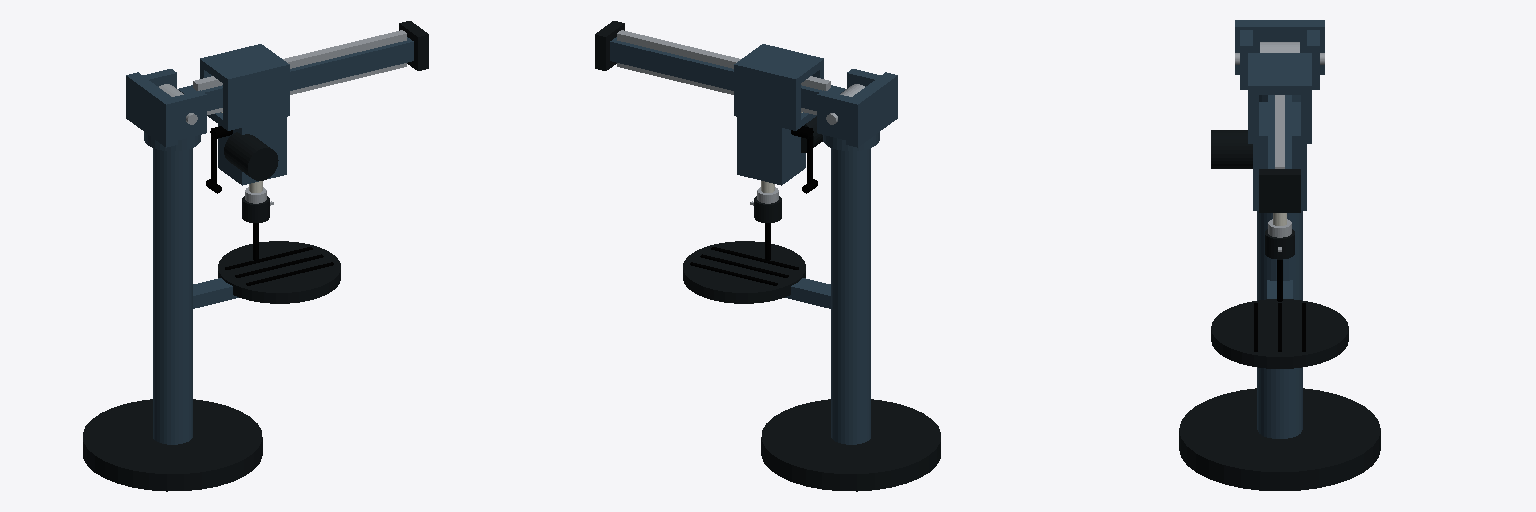
The robot description file, URDF, robot "radial_arm_drill_press":
<robot name="radial_arm_drill_press">
  <material name="dark_cast_iron">
    <color rgba="0.1 0.12 0.13 1" />
    </material>
  <material name="blue_gray_casting">
    <color rgba="0.22 0.3 0.36 1" />
    </material>
  <material name="bare_steel">
    <color rgba="0.62 0.64 0.66 1" />
    </material>
  <material name="polished_spindle">
    <color rgba="0.78 0.78 0.74 1" />
    </material>
  <material name="blackened_steel">
    <color rgba="0.02 0.02 0.02 1" />
    </material>
  <link name="base_column">
    <visual name="round_base">
      <origin xyz="0 0 0.04" rpy="0 0 0" />
      <geometry>
        <cylinder radius="0.38" length="0.08" />
        </geometry>
      <material name="dark_cast_iron">
        <color rgba="0.1 0.12 0.13 1" />
        </material>
      </visual>
    <visual name="round_column">
      <origin xyz="0 0 0.79" rpy="0 0 0" />
      <geometry>
        <cylinder radius="0.085" length="1.42" />
        </geometry>
      <material name="blue_gray_casting">
        <color rgba="0.22 0.3 0.36 1" />
        </material>
      </visual>
    <visual name="top_collar">
      <origin xyz="0 0 1.5" rpy="0 0 0" />
      <geometry>
        <cylinder radius="0.12" length="0.08" />
        </geometry>
      <material name="blue_gray_casting">
        <color rgba="0.22 0.3 0.36 1" />
        </material>
      </visual>
    <visual name="table_support">
      <origin xyz="0.28 0 0.705" rpy="0 0 0" />
      <geometry>
        <box size="0.55 0.1 0.06" />
        </geometry>
      <material name="blue_gray_casting">
        <color rgba="0.22 0.3 0.36 1" />
        </material>
      </visual>
    <visual name="round_table">
      <origin xyz="0.52 0 0.72" rpy="0 0 0" />
      <geometry>
        <cylinder radius="0.26" length="0.05" />
        </geometry>
      <material name="dark_cast_iron">
        <color rgba="0.1 0.12 0.13 1" />
        </material>
      </visual>
    <visual name="table_slot_0">
      <origin xyz="0.52 -0.09 0.748" rpy="0 0 0" />
      <geometry>
        <box size="0.42 0.018 0.008" />
        </geometry>
      <material name="blackened_steel">
        <color rgba="0.02 0.02 0.02 1" />
        </material>
      </visual>
    <visual name="table_slot_1">
      <origin xyz="0.52 0 0.748" rpy="0 0 0" />
      <geometry>
        <box size="0.42 0.018 0.008" />
        </geometry>
      <material name="blackened_steel">
        <color rgba="0.02 0.02 0.02 1" />
        </material>
      </visual>
    <visual name="table_slot_2">
      <origin xyz="0.52 0.09 0.748" rpy="0 0 0" />
      <geometry>
        <box size="0.42 0.018 0.008" />
        </geometry>
      <material name="blackened_steel">
        <color rgba="0.02 0.02 0.02 1" />
        </material>
      </visual>
    <visual name="yoke_back">
      <origin xyz="-0.1 0 1.62" rpy="0 0 0" />
      <geometry>
        <box size="0.06 0.34 0.2" />
        </geometry>
      <material name="blue_gray_casting">
        <color rgba="0.22 0.3 0.36 1" />
        </material>
      </visual>
    <visual name="yoke_lug_0">
      <origin xyz="0 -0.125 1.62" rpy="0 0 0" />
      <geometry>
        <box size="0.16 0.05 0.18" />
        </geometry>
      <material name="blue_gray_casting">
        <color rgba="0.22 0.3 0.36 1" />
        </material>
      </visual>
    <visual name="yoke_lug_1">
      <origin xyz="0 0.125 1.62" rpy="0 0 0" />
      <geometry>
        <box size="0.16 0.05 0.18" />
        </geometry>
      <material name="blue_gray_casting">
        <color rgba="0.22 0.3 0.36 1" />
        </material>
      </visual>
    <visual name="pivot_pin">
      <origin xyz="0 0 1.62" rpy="1.5708 0 0" />
      <geometry>
        <cylinder radius="0.024" length="0.34" />
        </geometry>
      <material name="bare_steel">
        <color rgba="0.62 0.64 0.66 1" />
        </material>
      </visual>
    <collision name="round_base">
      <origin xyz="0 0 0.04" rpy="0 0 0" />
      <geometry>
        <cylinder radius="0.38" length="0.08" />
        </geometry>
      </collision>
    <collision name="round_column">
      <origin xyz="0 0 0.79" rpy="0 0 0" />
      <geometry>
        <cylinder radius="0.085" length="1.42" />
        </geometry>
      </collision>
    <collision name="top_collar">
      <origin xyz="0 0 1.5" rpy="0 0 0" />
      <geometry>
        <cylinder radius="0.12" length="0.08" />
        </geometry>
      </collision>
    <collision name="table_support">
      <origin xyz="0.28 0 0.705" rpy="0 0 0" />
      <geometry>
        <box size="0.55 0.1 0.06" />
        </geometry>
      </collision>
    <collision name="round_table">
      <origin xyz="0.52 0 0.72" rpy="0 0 0" />
      <geometry>
        <cylinder radius="0.26" length="0.05" />
        </geometry>
      </collision>
    <collision name="table_slot_0">
      <origin xyz="0.52 -0.09 0.748" rpy="0 0 0" />
      <geometry>
        <box size="0.42 0.018 0.008" />
        </geometry>
      </collision>
    <collision name="table_slot_1">
      <origin xyz="0.52 0 0.748" rpy="0 0 0" />
      <geometry>
        <box size="0.42 0.018 0.008" />
        </geometry>
      </collision>
    <collision name="table_slot_2">
      <origin xyz="0.52 0.09 0.748" rpy="0 0 0" />
      <geometry>
        <box size="0.42 0.018 0.008" />
        </geometry>
      </collision>
    <collision name="yoke_back">
      <origin xyz="-0.1 0 1.62" rpy="0 0 0" />
      <geometry>
        <box size="0.06 0.34 0.2" />
        </geometry>
      </collision>
    <collision name="yoke_lug_0">
      <origin xyz="0 -0.125 1.62" rpy="0 0 0" />
      <geometry>
        <box size="0.16 0.05 0.18" />
        </geometry>
      </collision>
    <collision name="yoke_lug_1">
      <origin xyz="0 0.125 1.62" rpy="0 0 0" />
      <geometry>
        <box size="0.16 0.05 0.18" />
        </geometry>
      </collision>
    <collision name="pivot_pin">
      <origin xyz="0 0 1.62" rpy="1.5708 0 0" />
      <geometry>
        <cylinder radius="0.024" length="0.34" />
        </geometry>
      </collision>
    </link>
  <link name="arm">
    <visual name="pivot_hub">
      <origin xyz="0 0 0" rpy="1.5708 0 0" />
      <geometry>
        <cylinder radius="0.065" length="0.15" />
        </geometry>
      <material name="bare_steel">
        <color rgba="0.62 0.64 0.66 1" />
        </material>
      </visual>
    <visual name="main_beam">
      <origin xyz="0.6 0 0" rpy="0 0 0" />
      <geometry>
        <box size="1.1 0.09 0.09" />
        </geometry>
      <material name="blue_gray_casting">
        <color rgba="0.22 0.3 0.36 1" />
        </material>
      </visual>
    <visual name="top_slide_rail">
      <origin xyz="0.62 0 0.06" rpy="0 0 0" />
      <geometry>
        <box size="1.02 0.04 0.035" />
        </geometry>
      <material name="bare_steel">
        <color rgba="0.62 0.64 0.66 1" />
        </material>
      </visual>
    <visual name="lower_slide_rail">
      <origin xyz="0.62 0 -0.06" rpy="0 0 0" />
      <geometry>
        <box size="1.02 0.04 0.035" />
        </geometry>
      <material name="bare_steel">
        <color rgba="0.62 0.64 0.66 1" />
        </material>
      </visual>
    <visual name="end_stop">
      <origin xyz="1.175 0 0" rpy="0 0 0" />
      <geometry>
        <box size="0.055 0.16 0.16" />
        </geometry>
      <material name="dark_cast_iron">
        <color rgba="0.1 0.12 0.13 1" />
        </material>
      </visual>
    <collision name="pivot_hub">
      <origin xyz="0 0 0" rpy="1.5708 0 0" />
      <geometry>
        <cylinder radius="0.065" length="0.15" />
        </geometry>
      </collision>
    <collision name="main_beam">
      <origin xyz="0.6 0 0" rpy="0 0 0" />
      <geometry>
        <box size="1.1 0.09 0.09" />
        </geometry>
      </collision>
    <collision name="top_slide_rail">
      <origin xyz="0.62 0 0.06" rpy="0 0 0" />
      <geometry>
        <box size="1.02 0.04 0.035" />
        </geometry>
      </collision>
    <collision name="lower_slide_rail">
      <origin xyz="0.62 0 -0.06" rpy="0 0 0" />
      <geometry>
        <box size="1.02 0.04 0.035" />
        </geometry>
      </collision>
    <collision name="end_stop">
      <origin xyz="1.175 0 0" rpy="0 0 0" />
      <geometry>
        <box size="0.055 0.16 0.16" />
        </geometry>
      </collision>
    </link>
  <link name="head">
    <visual name="slide_sleeve">
      <geometry>
        <mesh filename="assets/meshes/sliding_head_casting.obj" />
        </geometry>
      <material name="blue_gray_casting">
        <color rgba="0.22 0.3 0.36 1" />
        </material>
      </visual>
    <visual name="upper_wear_pad">
      <origin xyz="0 0 0.0825" rpy="0 0 0" />
      <geometry>
        <box size="0.24 0.035 0.01" />
        </geometry>
      <material name="polished_spindle">
        <color rgba="0.78 0.78 0.74 1" />
        </material>
      </visual>
    <visual name="lower_wear_pad">
      <origin xyz="0 0 -0.0825" rpy="0 0 0" />
      <geometry>
        <box size="0.24 0.035 0.01" />
        </geometry>
      <material name="polished_spindle">
        <color rgba="0.78 0.78 0.74 1" />
        </material>
      </visual>
    <visual name="side_motor">
      <origin xyz="-0.06 -0.16 -0.24" rpy="1.5708 0 0" />
      <geometry>
        <cylinder radius="0.075" length="0.2" />
        </geometry>
      <material name="dark_cast_iron">
        <color rgba="0.1 0.12 0.13 1" />
        </material>
      </visual>
    <collision name="slide_sleeve">
      <geometry>
        <mesh filename="assets/meshes/sliding_head_casting.obj" />
        </geometry>
      </collision>
    <collision name="upper_wear_pad">
      <origin xyz="0 0 0.0825" rpy="0 0 0" />
      <geometry>
        <box size="0.24 0.035 0.01" />
        </geometry>
      </collision>
    <collision name="lower_wear_pad">
      <origin xyz="0 0 -0.0825" rpy="0 0 0" />
      <geometry>
        <box size="0.24 0.035 0.01" />
        </geometry>
      </collision>
    <collision name="side_motor">
      <origin xyz="-0.06 -0.16 -0.24" rpy="1.5708 0 0" />
      <geometry>
        <cylinder radius="0.075" length="0.2" />
        </geometry>
      </collision>
    </link>
  <link name="feed_lever">
    <visual name="feed_hub">
      <origin xyz="-0.04 0 0" rpy="0 1.5708 0" />
      <geometry>
        <cylinder radius="0.024" length="0.085" />
        </geometry>
      <material name="blackened_steel">
        <color rgba="0.02 0.02 0.02 1" />
        </material>
      </visual>
    <visual name="feed_spoke">
      <origin xyz="-0.08 0 -0.12" rpy="0 0 0" />
      <geometry>
        <cylinder radius="0.012" length="0.22" />
        </geometry>
      <material name="blackened_steel">
        <color rgba="0.02 0.02 0.02 1" />
        </material>
      </visual>
    <visual name="feed_grip">
      <origin xyz="-0.08 0 -0.245" rpy="1.5708 0 0" />
      <geometry>
        <cylinder radius="0.018" length="0.075" />
        </geometry>
      <material name="blackened_steel">
        <color rgba="0.02 0.02 0.02 1" />
        </material>
      </visual>
    <collision name="feed_hub">
      <origin xyz="-0.04 0 0" rpy="0 1.5708 0" />
      <geometry>
        <cylinder radius="0.024" length="0.085" />
        </geometry>
      </collision>
    <collision name="feed_spoke">
      <origin xyz="-0.08 0 -0.12" rpy="0 0 0" />
      <geometry>
        <cylinder radius="0.012" length="0.22" />
        </geometry>
      </collision>
    <collision name="feed_grip">
      <origin xyz="-0.08 0 -0.245" rpy="1.5708 0 0" />
      <geometry>
        <cylinder radius="0.018" length="0.075" />
        </geometry>
      </collision>
    </link>
  <link name="spindle">
    <visual name="spindle_shaft">
      <origin xyz="0 0 -0.07" rpy="0 0 0" />
      <geometry>
        <cylinder radius="0.028" length="0.14" />
        </geometry>
      <material name="polished_spindle">
        <color rgba="0.78 0.78 0.74 1" />
        </material>
      </visual>
    <visual name="chuck_collar">
      <origin xyz="0 0 -0.135" rpy="0 0 0" />
      <geometry>
        <cylinder radius="0.045" length="0.045" />
        </geometry>
      <material name="bare_steel">
        <color rgba="0.62 0.64 0.66 1" />
        </material>
      </visual>
    <visual name="drill_chuck">
      <origin xyz="0 0 -0.195" rpy="0 0 0" />
      <geometry>
        <cylinder radius="0.058" length="0.085" />
        </geometry>
      <material name="dark_cast_iron">
        <color rgba="0.1 0.12 0.13 1" />
        </material>
      </visual>
    <visual name="chuck_key">
      <origin xyz="0.055 0 -0.19" rpy="0 0 0" />
      <geometry>
        <box size="0.055 0.012 0.012" />
        </geometry>
      <material name="bare_steel">
        <color rgba="0.62 0.64 0.66 1" />
        </material>
      </visual>
    <visual name="drill_bit">
      <origin xyz="0 0 -0.325" rpy="0 0 0" />
      <geometry>
        <cylinder radius="0.011" length="0.22" />
        </geometry>
      <material name="blackened_steel">
        <color rgba="0.02 0.02 0.02 1" />
        </material>
      </visual>
    <collision name="spindle_shaft">
      <origin xyz="0 0 -0.07" rpy="0 0 0" />
      <geometry>
        <cylinder radius="0.028" length="0.14" />
        </geometry>
      </collision>
    <collision name="chuck_collar">
      <origin xyz="0 0 -0.135" rpy="0 0 0" />
      <geometry>
        <cylinder radius="0.045" length="0.045" />
        </geometry>
      </collision>
    <collision name="drill_chuck">
      <origin xyz="0 0 -0.195" rpy="0 0 0" />
      <geometry>
        <cylinder radius="0.058" length="0.085" />
        </geometry>
      </collision>
    <collision name="chuck_key">
      <origin xyz="0.055 0 -0.19" rpy="0 0 0" />
      <geometry>
        <box size="0.055 0.012 0.012" />
        </geometry>
      </collision>
    <collision name="drill_bit">
      <origin xyz="0 0 -0.325" rpy="0 0 0" />
      <geometry>
        <cylinder radius="0.011" length="0.22" />
        </geometry>
      </collision>
    </link>
  <joint name="column_to_arm" type="revolute">
    <origin xyz="0 0 1.62" rpy="0 0 0" />
    <parent link="base_column" />
    <child link="arm" />
    <axis xyz="0 -1 0" />
    <limit effort="120" velocity="0.5" lower="0" upper="0.45" />
    </joint>
  <joint name="arm_to_head" type="prismatic">
    <origin xyz="0.35 0 0" rpy="0 0 0" />
    <parent link="arm" />
    <child link="head" />
    <axis xyz="1 0 0" />
    <limit effort="90" velocity="0.25" lower="0" upper="0.55" />
    </joint>
  <joint name="head_to_spindle" type="continuous">
    <origin xyz="0.055 0 -0.38" rpy="0 0 0" />
    <parent link="head" />
    <child link="spindle" />
    <axis xyz="0 0 1" />
    <limit effort="15" velocity="20" />
    </joint>
  <joint name="head_to_feed_lever" type="revolute">
    <origin xyz="-0.07 0 -0.18" rpy="0 0 0" />
    <parent link="head" />
    <child link="feed_lever" />
    <axis xyz="1 0 0" />
    <limit effort="8" velocity="2.5" lower="-0.9" upper="0.9" />
    </joint>
  </robot>

--- Facts derived from the render (not from the file) ---
3 views of the same robot in one strip: view 1: azimuth 30°, elevation 25°; view 2: azimuth 150°, elevation 25°; view 3: azimuth 270°, elevation 25° (orthographic).
Robot: radial_arm_drill_press — 5 links, 4 joints (2 revolute, 1 continuous, 1 prismatic); root link base_column; default pose: every joint at zero.
Visible links, largest first — view 1: base_column, head, arm, spindle, feed_lever; view 2: base_column, head, arm, spindle, feed_lever; view 3: base_column, head, arm, spindle.
Boxes of the visible links, left/top/right/bottom form: base_column: left=83, top=69, right=340, bottom=491; head: left=200, top=44, right=289, bottom=185; arm: left=159, top=21, right=428, bottom=114; spindle: left=242, top=181, right=273, bottom=260; feed_lever: left=206, top=126, right=232, bottom=193; base_column: left=683, top=69, right=940, bottom=491; head: left=734, top=44, right=823, bottom=185; arm: left=595, top=21, right=864, bottom=114; spindle: left=750, top=181, right=781, bottom=260; feed_lever: left=791, top=126, right=817, bottom=193; base_column: left=1179, top=20, right=1380, bottom=490; head: left=1211, top=53, right=1311, bottom=210; arm: left=1259, top=42, right=1300, bottom=212; spindle: left=1265, top=213, right=1294, bottom=301.
Size in the robot's own frame: 1.58 by 0.76 by 1.74 metres.
Meshes: 1 distinct files referenced, 1 mesh visuals loaded (1 OBJ).
